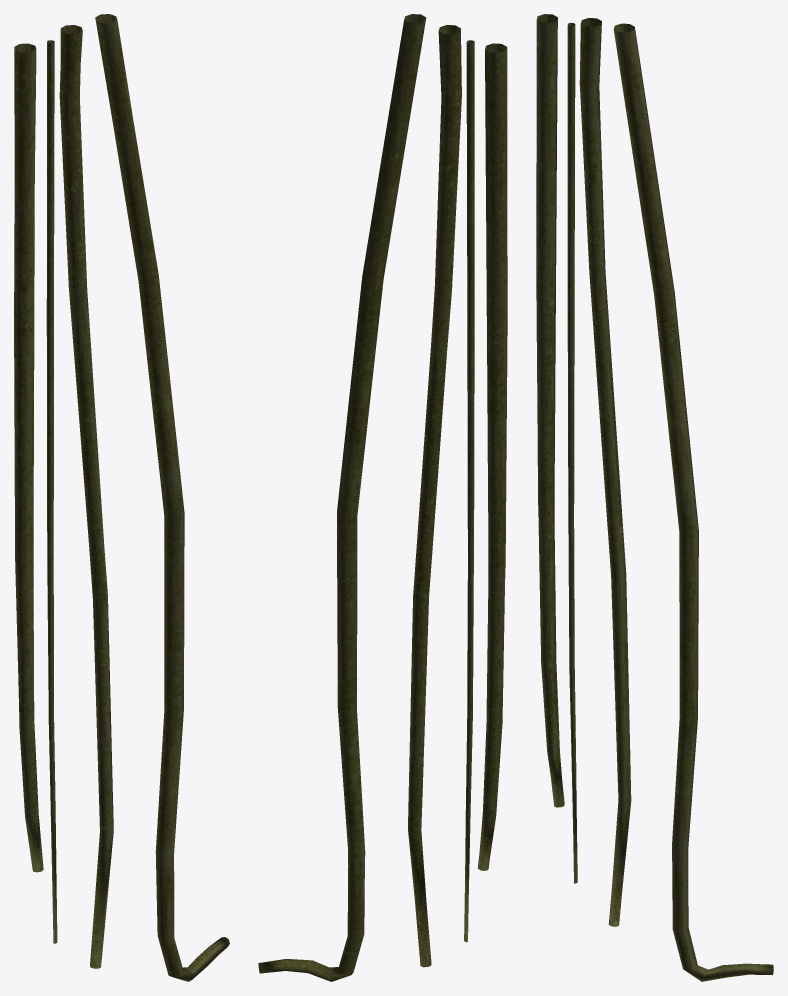
The model's file is cipo_Jun04.fbx.
3 views of the same model, side by side, from view 1: azimuth 30°, elevation 25°; view 2: azimuth 150°, elevation 25°; view 3: azimuth 330°, elevation 25° (orthographic). The views are drawn at different scales.
Visible parts, largest first — view 1: pCylinder8; view 2: pCylinder8; view 3: pCylinder8.
Boxes of the visible parts, <box> form: pCylinder8: <box>14,14,229,981</box>; pCylinder8: <box>258,14,507,981</box>; pCylinder8: <box>536,14,773,981</box>.
Bounding box in the file's own units: 134 × 546 × 27.17.
